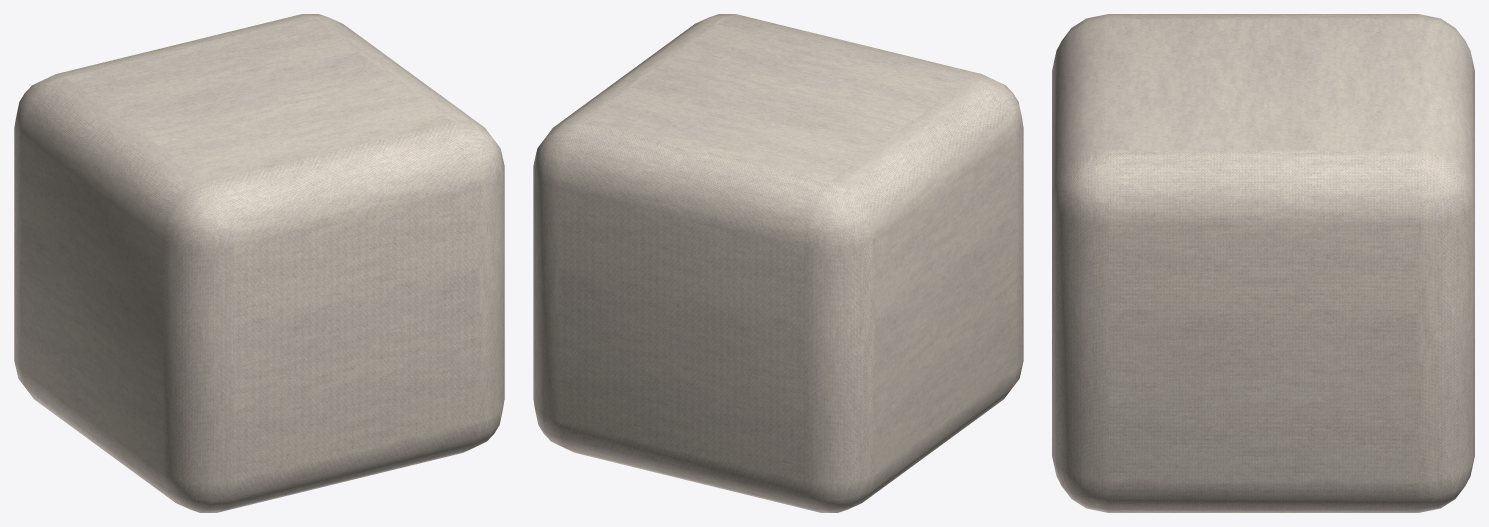
File: lounge.cube-pouf.glb
3 views of the same model, side by side, from view 1: azimuth 30°, elevation 25°; view 2: azimuth 150°, elevation 25°; view 3: azimuth 270°, elevation 25° (orthographic). The views are drawn at different scales.
Parts seen in each view (by area): view 1: lounge.cube-pouf.001; view 2: lounge.cube-pouf.001; view 3: lounge.cube-pouf.001.
Boxes of the visible parts, x1,y1,x2,y2 form: lounge.cube-pouf.001: (14, 14, 504, 512); lounge.cube-pouf.001: (533, 14, 1023, 512); lounge.cube-pouf.001: (1052, 14, 1474, 512).
Bounding box in the file's own units: 0.45 × 0.42 × 0.45.
Materials: 1 (1 with a texture image).
